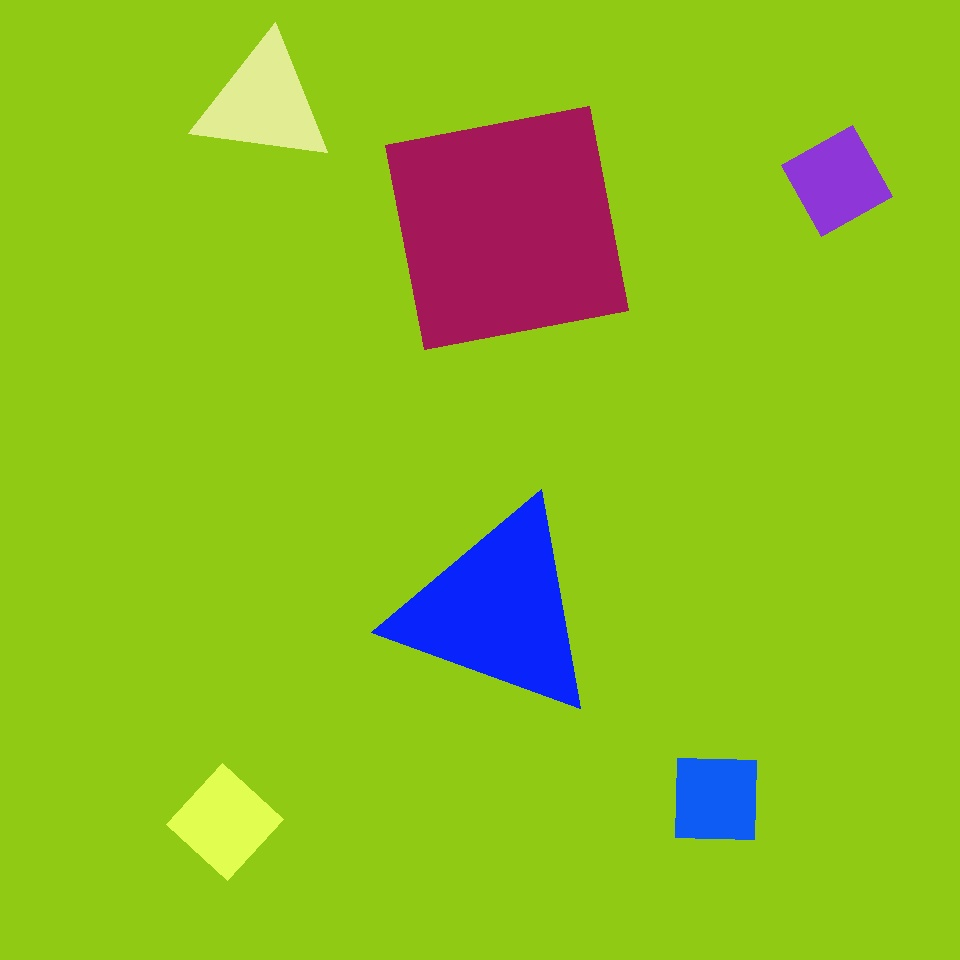circle: (482, 247, 762, 525), (287, 327, 519, 564), (394, 500, 603, 719), (195, 38, 334, 168)
square: (212, 197, 529, 514), (443, 640, 698, 896), (385, 106, 628, 349), (166, 764, 284, 880), (781, 126, 892, 236), (676, 758, 756, 840)
triangle: (706, 615, 934, 844), (481, 621, 587, 727)
